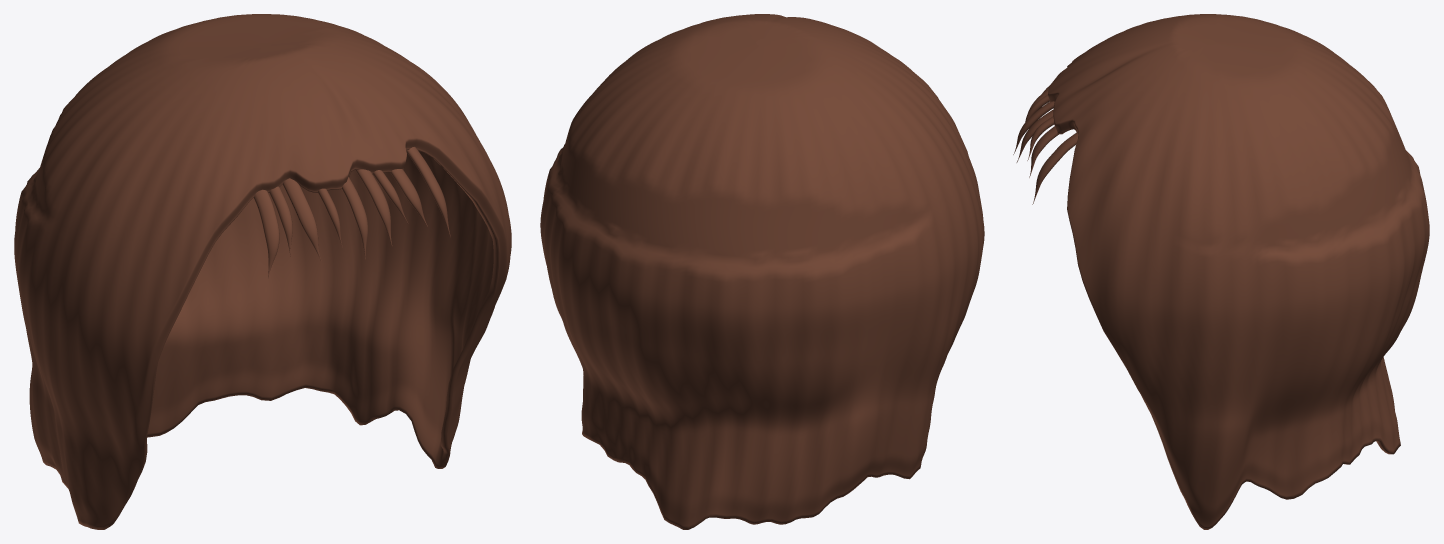
File: side-sweep-bucket.glb
3 renders of one model, left to right at view 1: azimuth 30°, elevation 25°; view 2: azimuth 150°, elevation 25°; view 3: azimuth 270°, elevation 25°, orthographic. The views are drawn at different scales.
Visible parts, largest first — view 1: Hair / layered lob, Fringe / tapered lock 01, Fringe / tapered lock 03, Fringe / tapered lock 09, Fringe / tapered lock 06, Fringe / tapered lock 05, Fringe / tapered lock 02, Fringe / tapered lock 08; view 2: Hair / layered lob; view 3: Hair / layered lob, Fringe / tapered lock 09.
Part boxes in pixels (x1,y1,x2,y2): Hair / layered lob: (14,14,511,529); Fringe / tapered lock 01: (253,189,279,278); Fringe / tapered lock 03: (282,178,321,261); Fringe / tapered lock 09: (406,147,450,237); Fringe / tapered lock 06: (355,169,392,245); Fringe / tapered lock 05: (342,177,367,259); Fringe / tapered lock 02: (269,186,292,257); Fringe / tapered lock 08: (391,169,427,226); Hair / layered lob: (540,14,984,529); Hair / layered lob: (1048,14,1429,529); Fringe / tapered lock 09: (1032,132,1078,204).
Size of the model in its own units: 0.8388 by 0.8732 by 0.7904.
